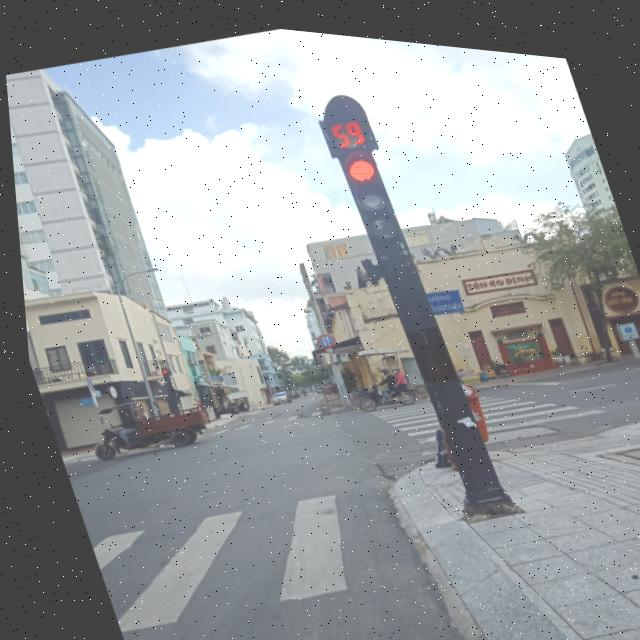Red: (330, 134, 403, 242)
